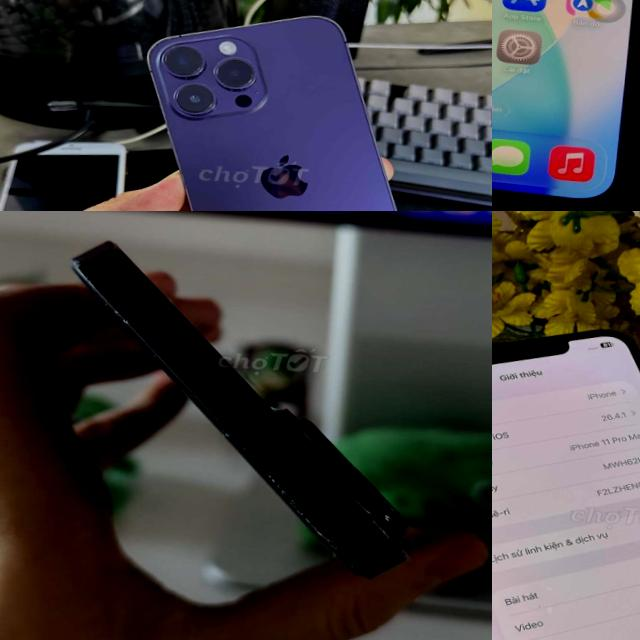scratch: (236, 466, 419, 589), (66, 245, 132, 326), (150, 286, 216, 340)
